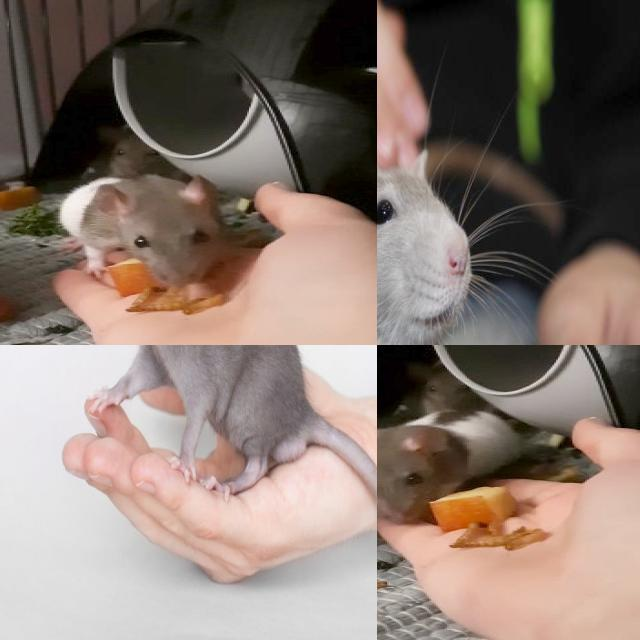rat: (69, 345, 328, 501), (59, 172, 230, 290), (377, 410, 524, 527)
